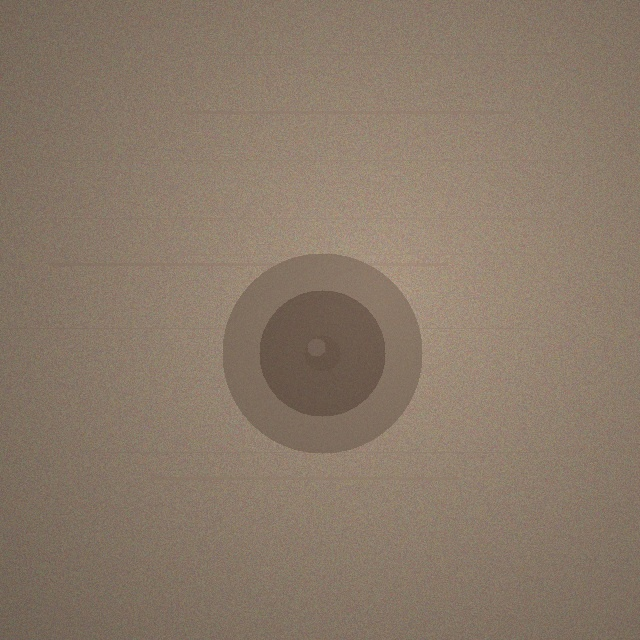good: (222, 253, 422, 453)
